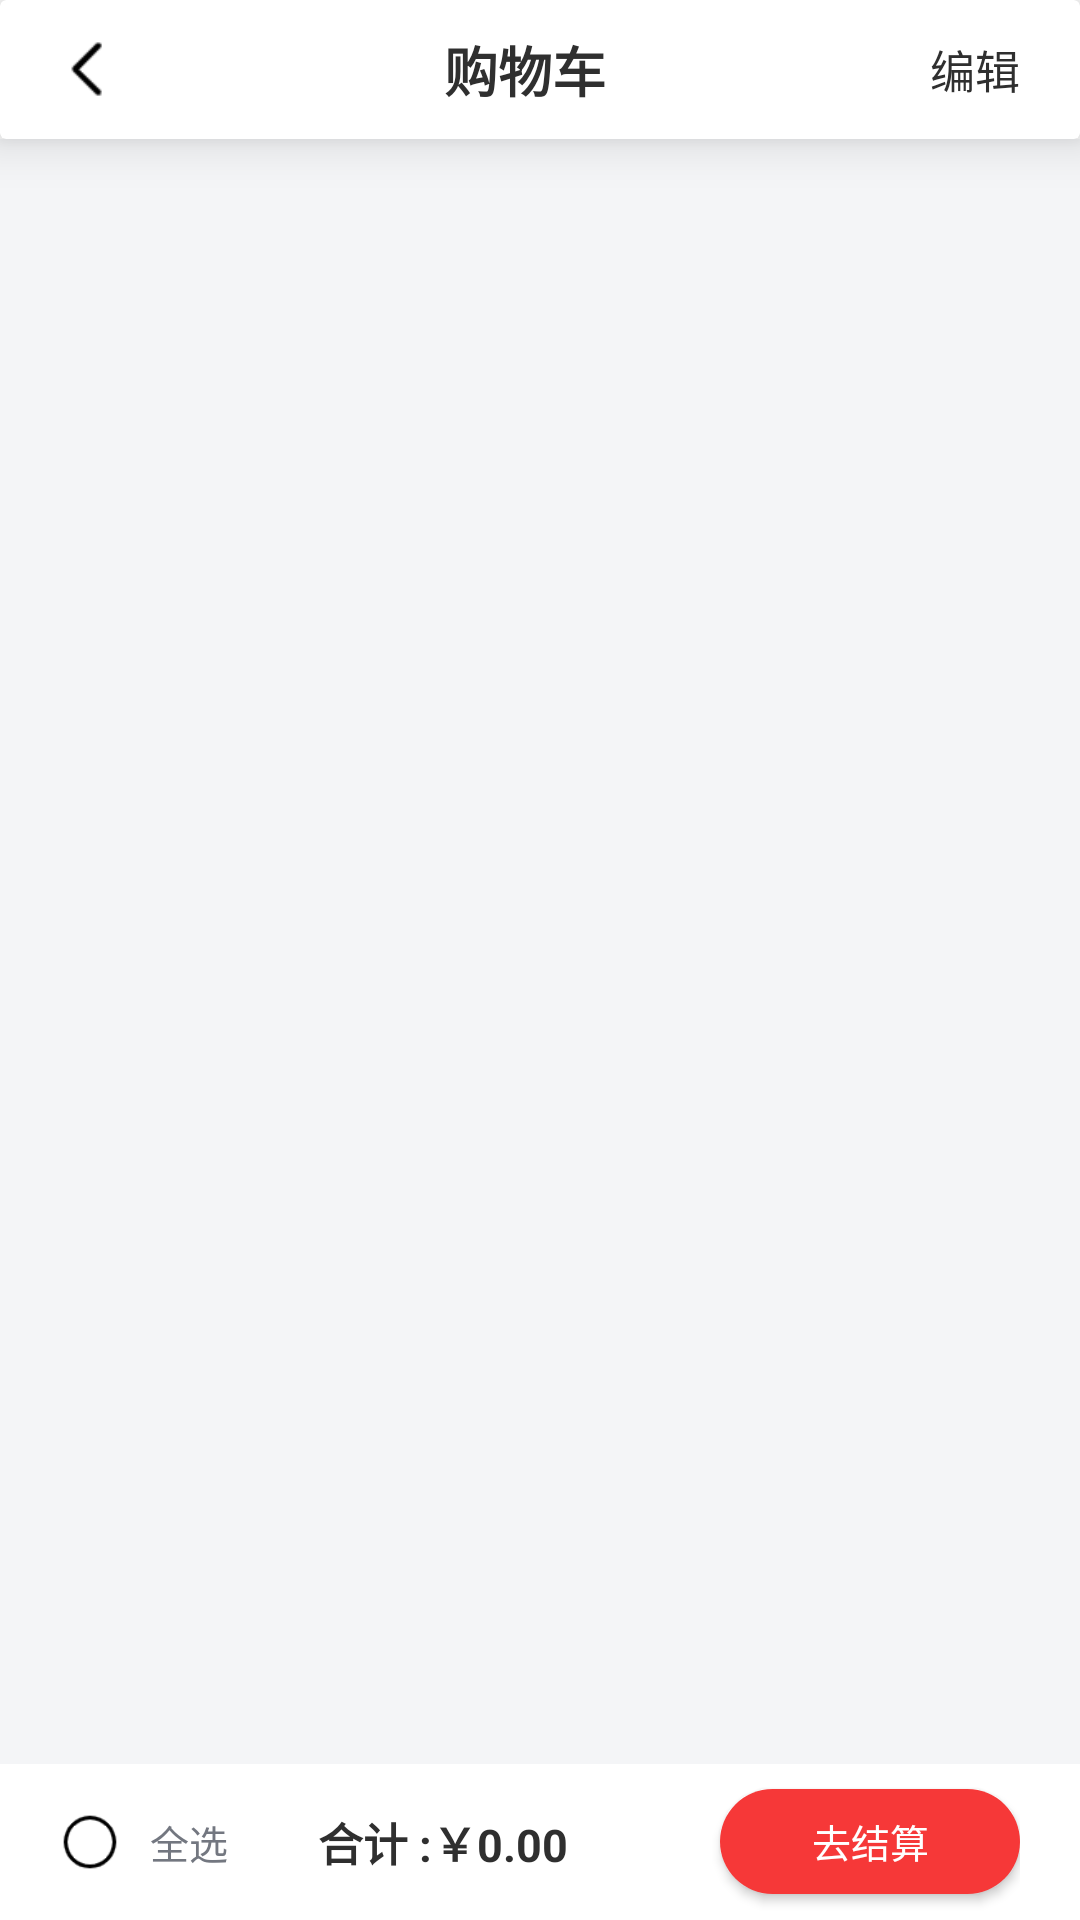

Point at icon controls on the screen. Image size 1080px x 1920px, points as (x=x, y=y).
arrow back nobar: (x=86, y=69)
no select: (x=90, y=1842)
